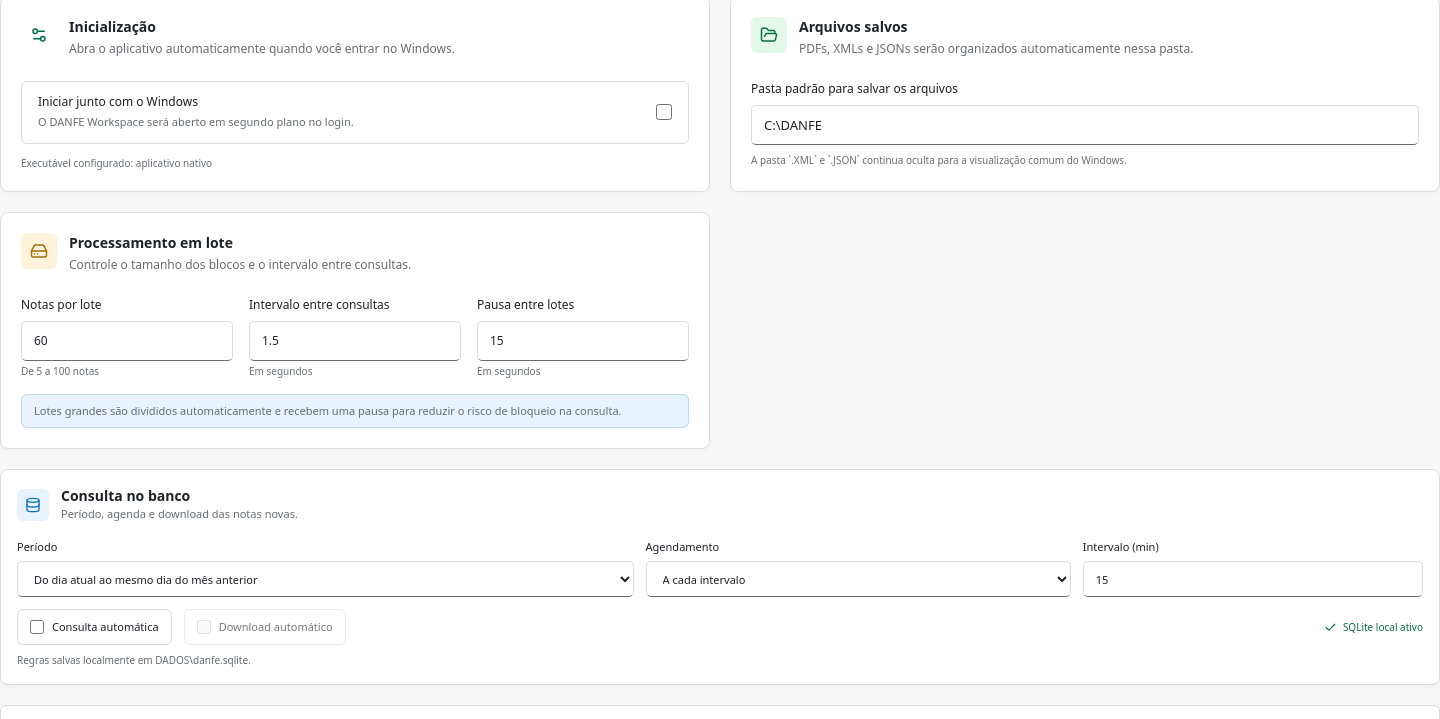
Test: Batch settings input › applies limits only when leaving a field or saving and restores empty values
Earlier steps of the test are not shown.
Clear the number field labelled "Pausa entre lotes Em segundos": (583, 340) top-left (477, 320), bottom-right (689, 360)
Leave the number field labelled "Pausa entre lotes Em segundos", box top-left (477, 320), bottom-right (689, 360)
Replace the text in the number field labelled "Pausa entre lotes Em segundos" with "1": (583, 340) top-left (477, 320), bottom-right (689, 360)
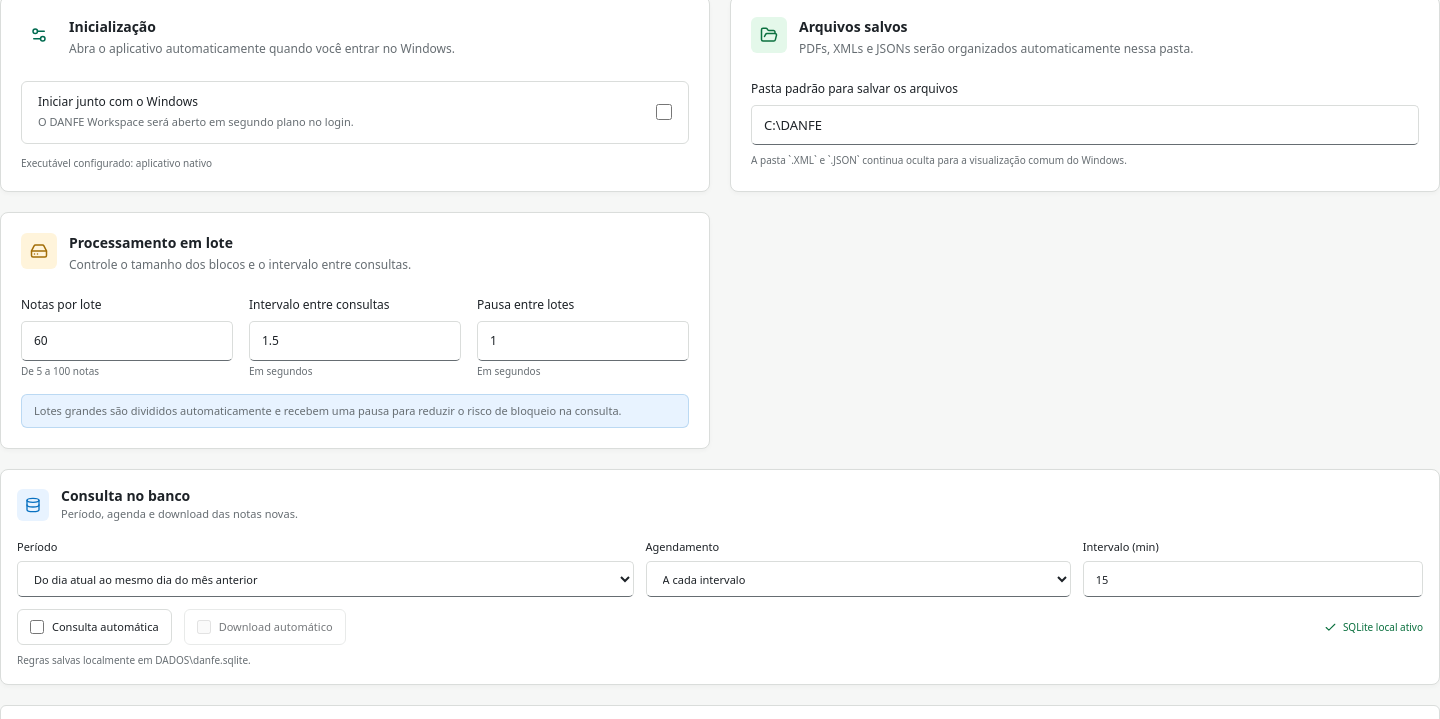
Leave the number field labelled "Pausa entre lotes Em segundos", box top-left (477, 320), bottom-right (689, 360)
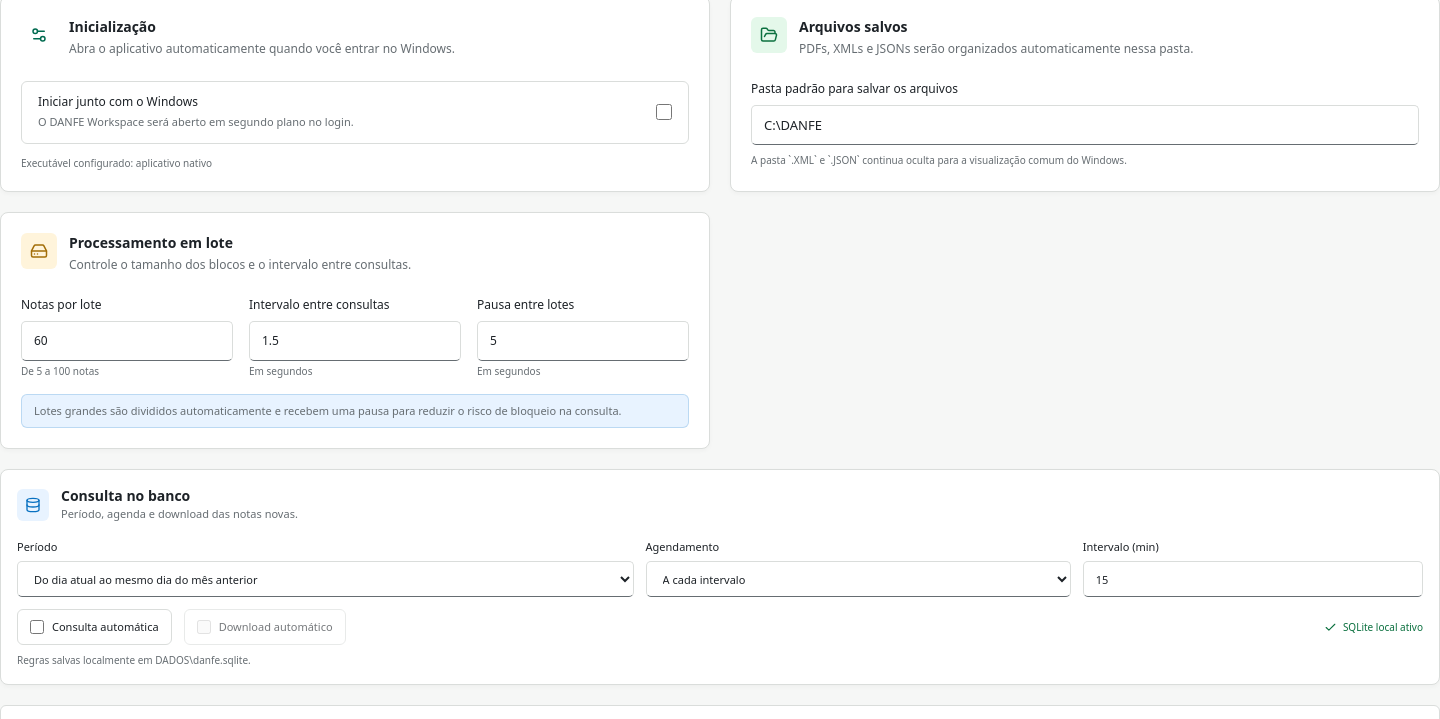
Expected: the number field labelled "Pausa entre lotes Em segundos" holds "5"
Replace the text in the number field labelled "Pausa entre lotes Em segundos" with "999": (583, 340) top-left (477, 320), bottom-right (689, 360)
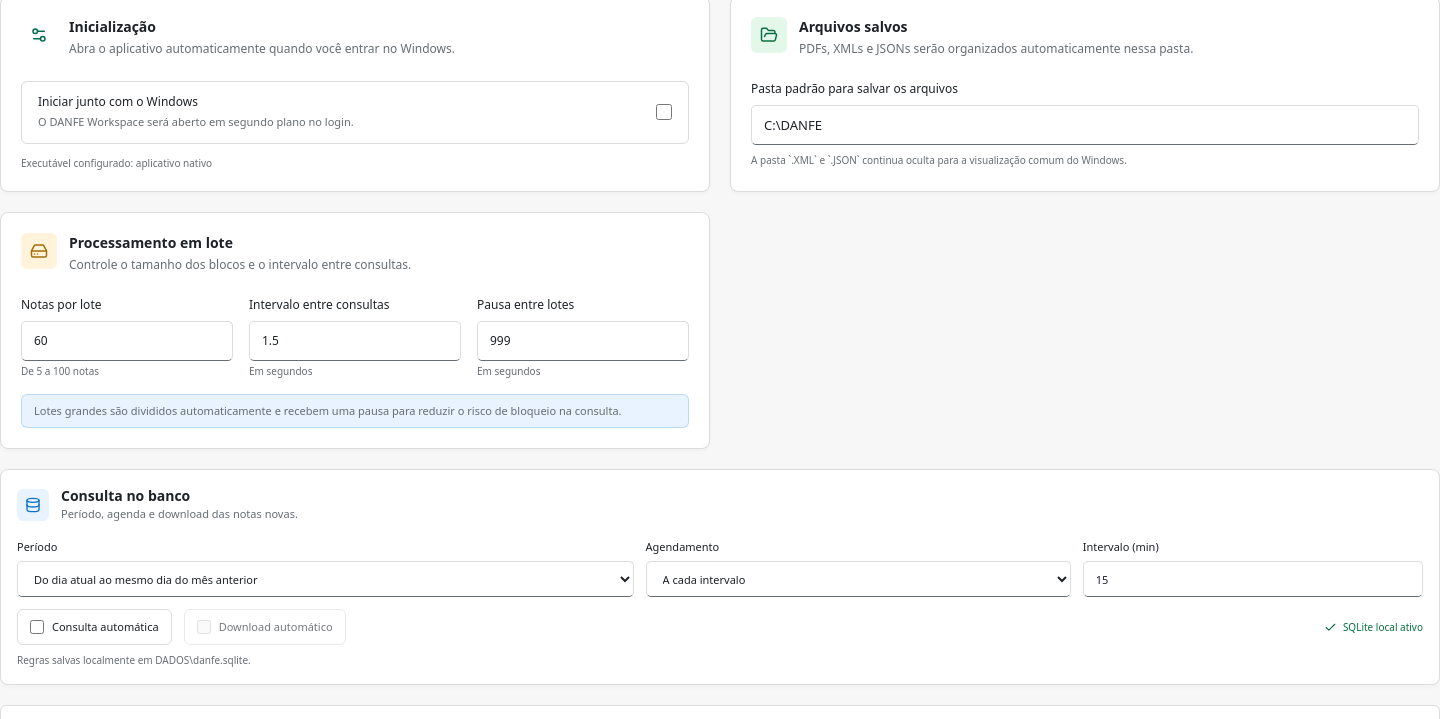
Replace the text in the number field labelled "Notas por lote De 5 a 100 notas" with "999": (127, 340) top-left (21, 320), bottom-right (233, 360)
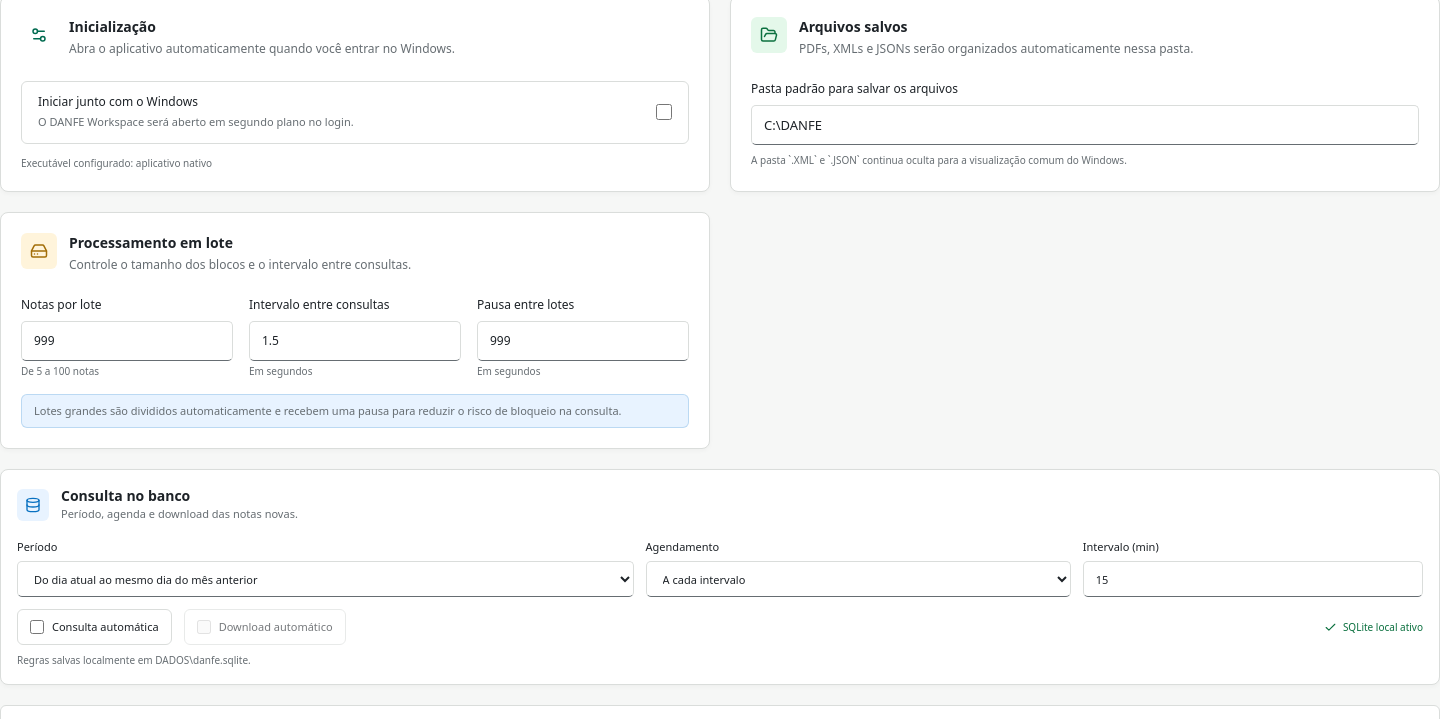
Replace the text in the number field labelled "Intervalo entre consultas Em segundos" with "99": (355, 340) top-left (249, 320), bottom-right (461, 360)
(page scrolled)
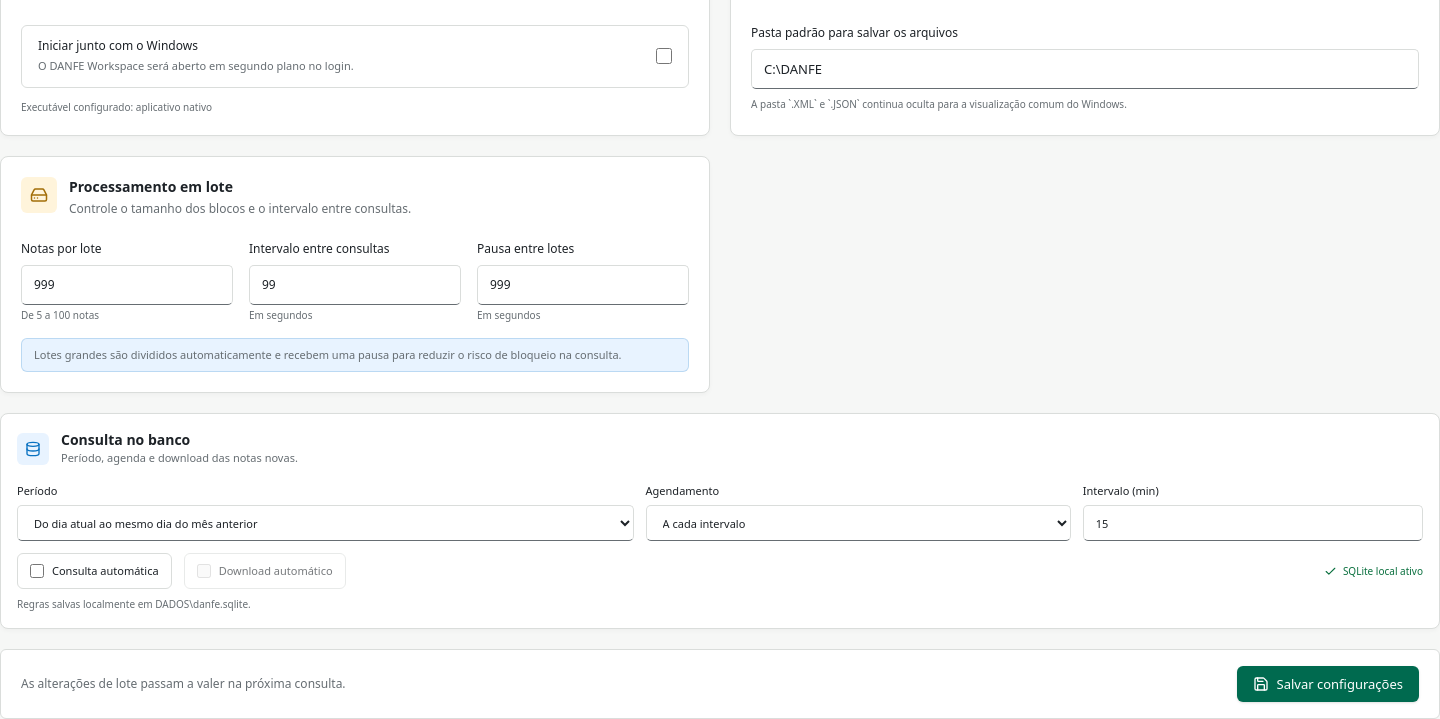
Click the button "Salvar configurações": (1328, 684) top-left (1236, 666), bottom-right (1419, 702)
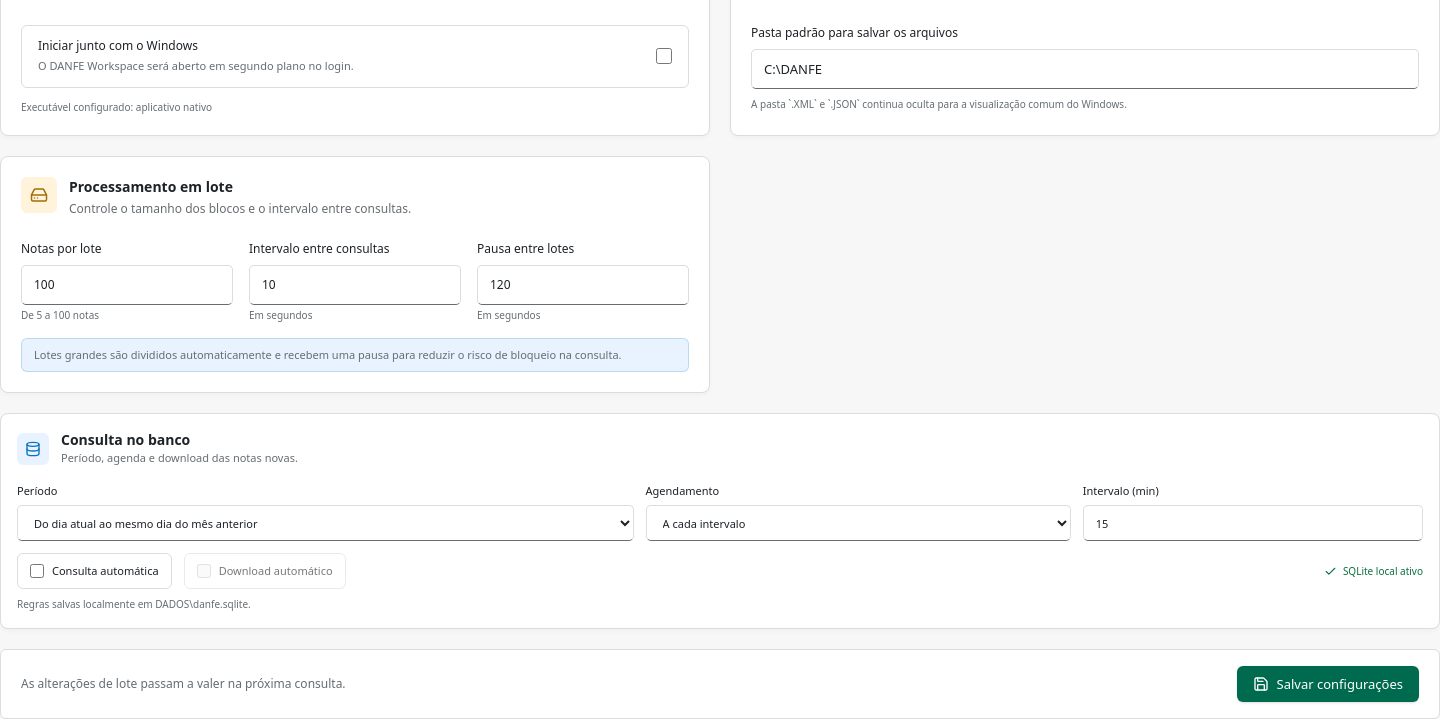
Expected: the number field labelled "Pausa entre lotes Em segundos" holds "120", top-left (477, 264), bottom-right (689, 304)
